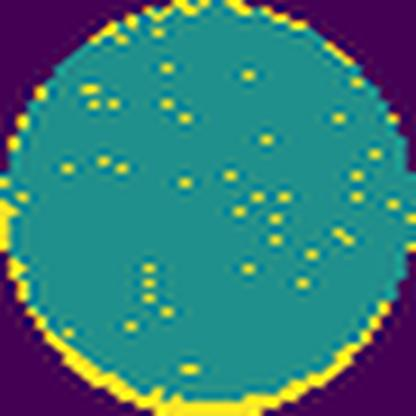Donut: (0, 193, 416, 416)
